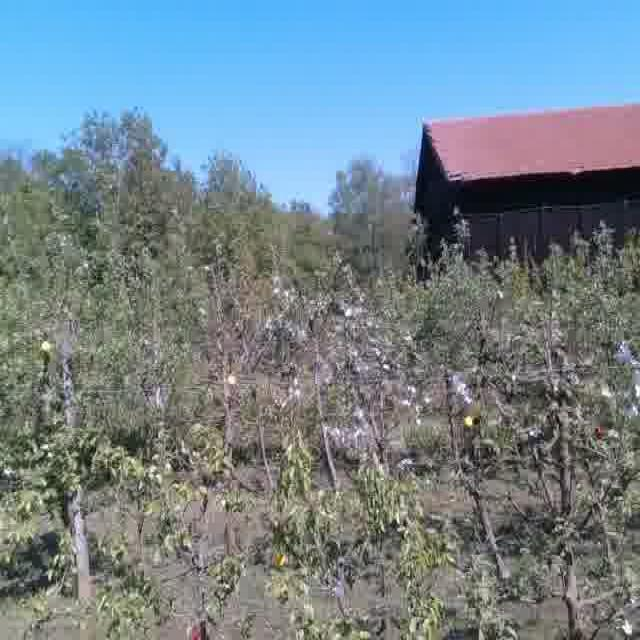red: (187, 622, 206, 640), (594, 423, 605, 438)
yellow: (463, 416, 474, 428), (227, 373, 234, 387), (41, 341, 49, 352)
